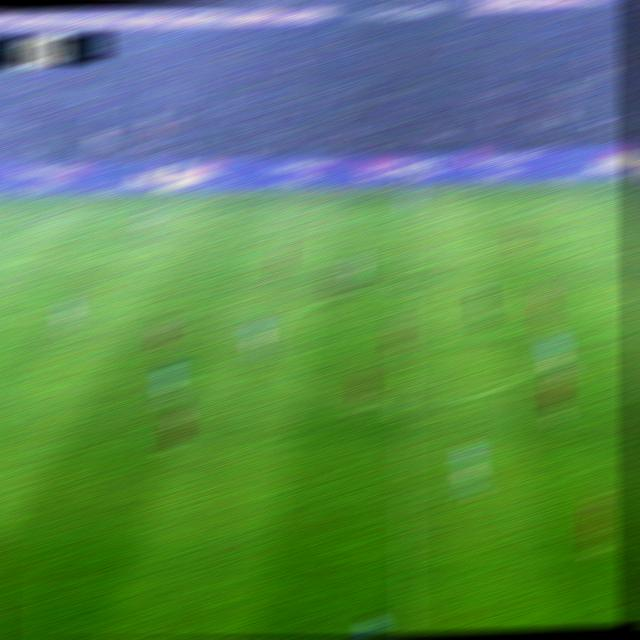bigarea_top_inner: (0, 232, 11, 256)
halfcircle_bottom: (387, 391, 420, 416)
halfcircle_top: (385, 274, 419, 299)
midline_top_intersection: (388, 184, 413, 203)
